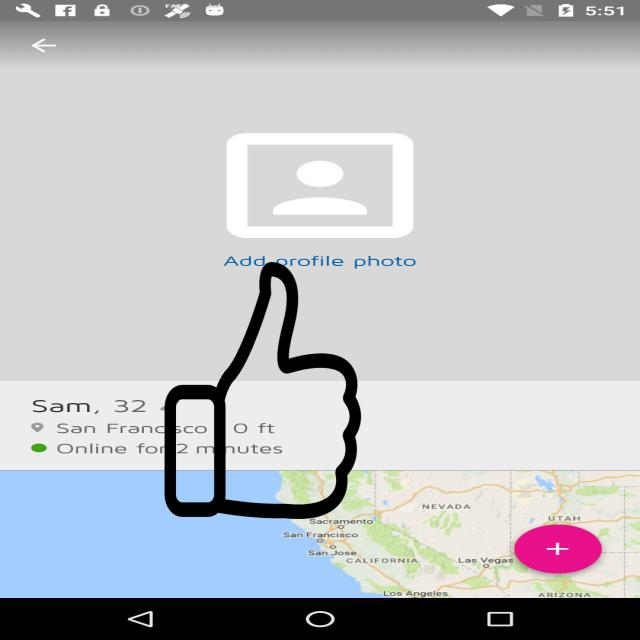privacy zuckering: (162, 262, 364, 519)
